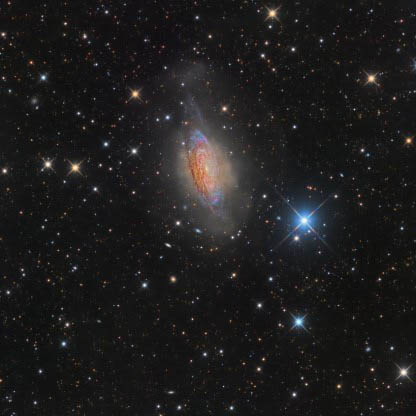NGC 3521: (119, 83, 314, 304)
